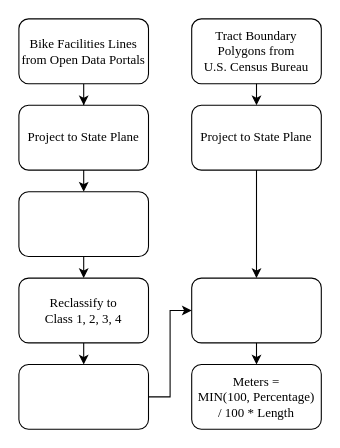
The diagram is 340 pixels wide and 448 high, and some of its shapes have lost their labels. The shapes that lost their labels are listed below. From the top down, each one's box as (x1, y1, x2, y2) in pixels, then its label:
(18, 191, 148, 256): Calculate Length (Meters)
(191, 277, 321, 343): Tabulate Intersection X/Y Tolerance = 5m
(18, 363, 148, 429): Exclude Records Without Class (e.g. trails)
